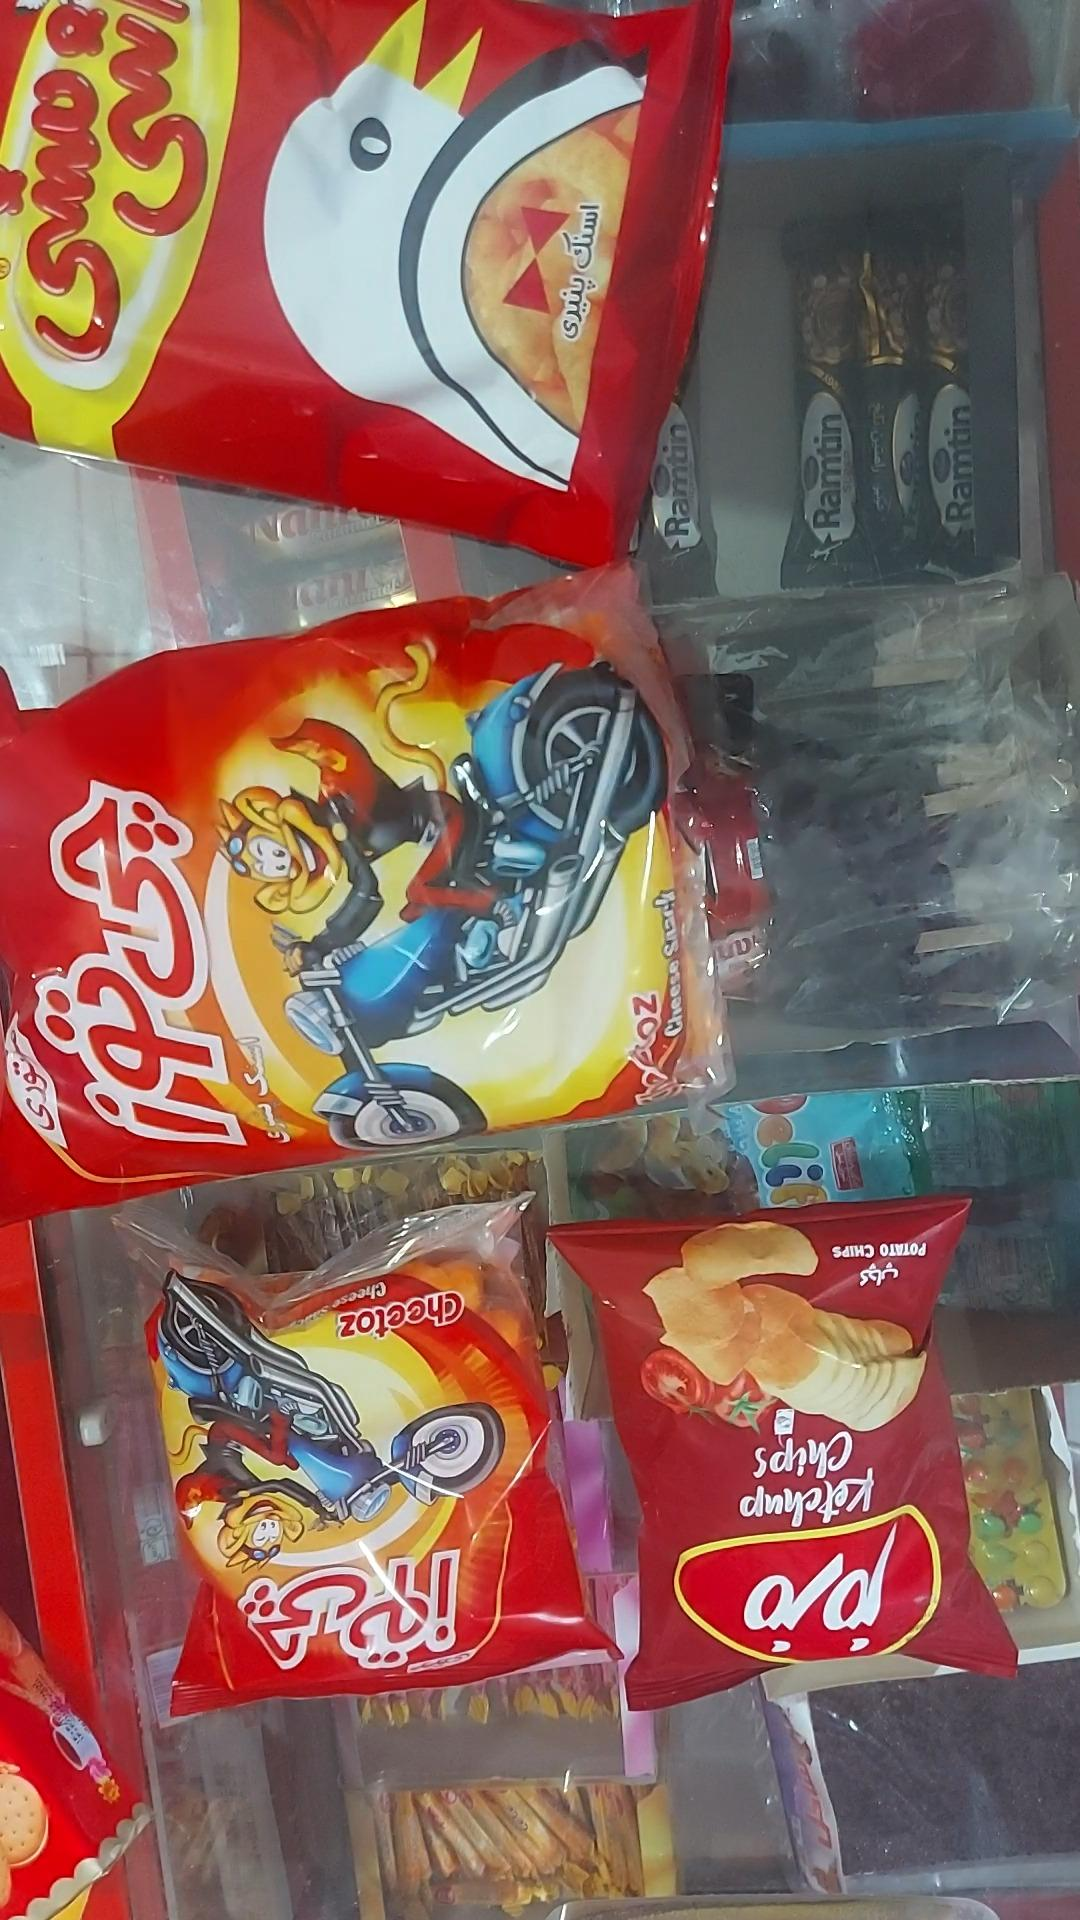Ashi Mashi snacks: (0, 0, 736, 568)
Cheetoz snack 30g: (119, 1193, 620, 1720)
Cheetoz snack 90g: (0, 560, 727, 1228)
Maz Maz ketchup chips: (550, 1197, 1018, 1714)
